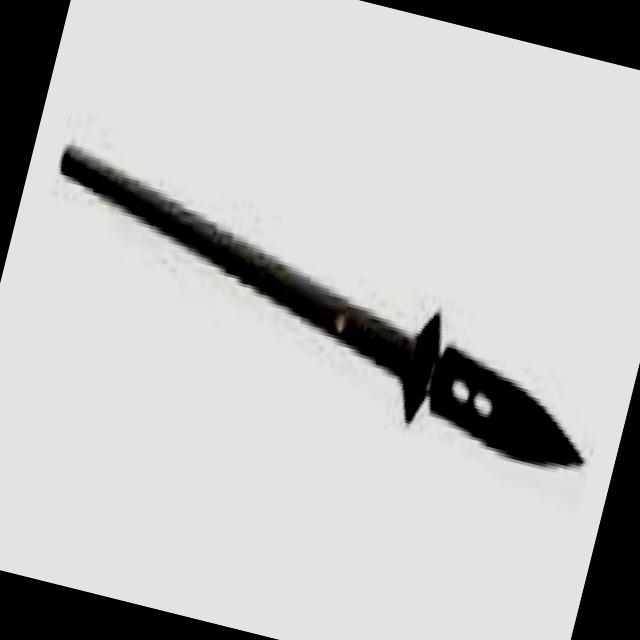spear: (0, 111, 640, 526)
